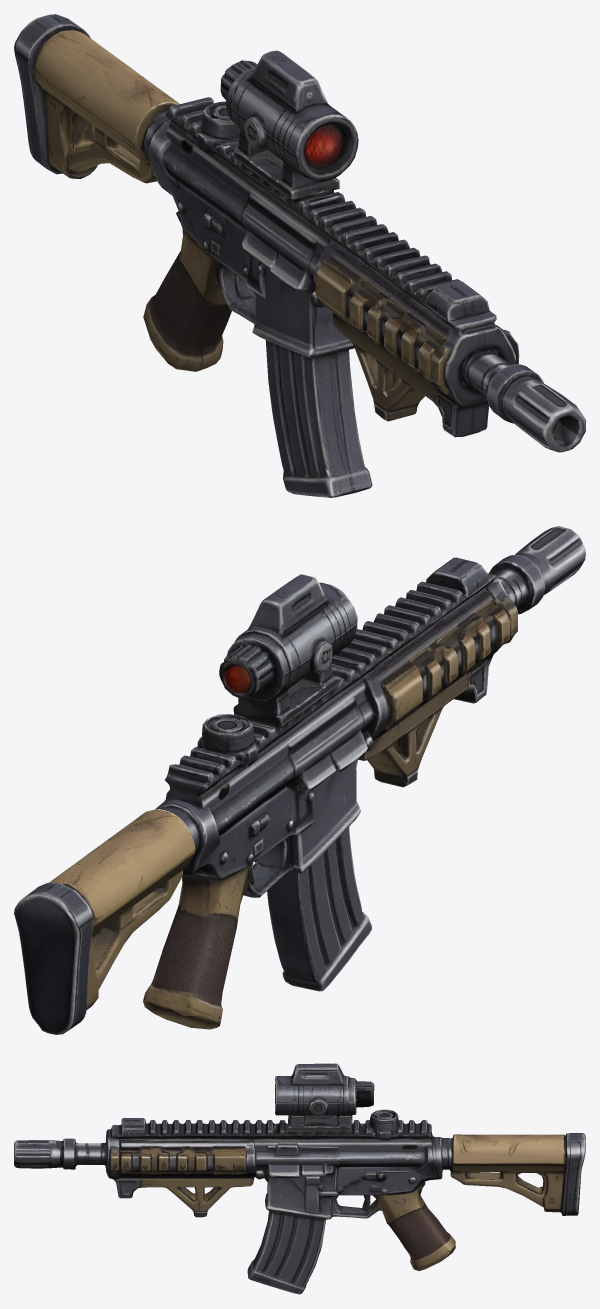
File: scoped_tactical.high.glb
3 views of the same model, one above another, from view 1: azimuth 30°, elevation 25°; view 2: azimuth 150°, elevation 25°; view 3: azimuth 270°, elevation 25° (orthographic). The views are drawn at different scales.
Parts seen in each view (by area): view 1: model; view 2: model; view 3: model.
Boxes of the visible parts, x1,y1,x2,y2 form: model: [14, 14, 585, 497]; model: [14, 526, 585, 1034]; model: [14, 1063, 585, 1294].
Bounding box in the file's own units: 0.0726 × 0.3387 × 0.78.
Materials: 1 (1 with a texture image).
